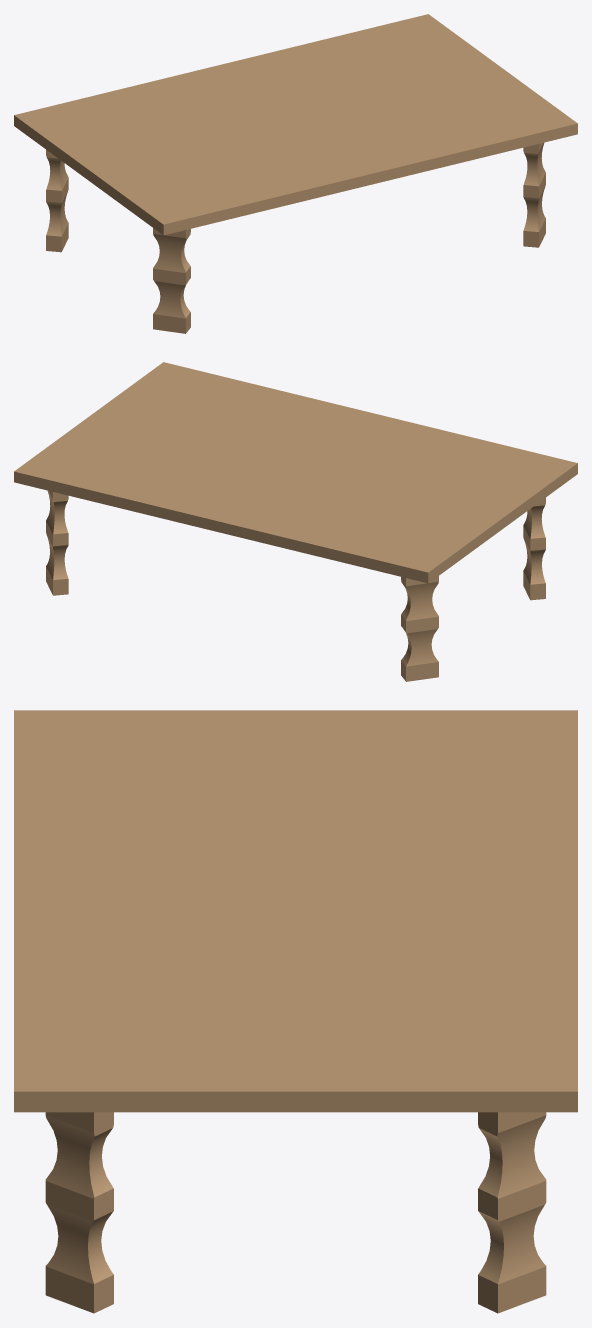
3 views of the same model, one above another, from view 1: azimuth 30°, elevation 25°; view 2: azimuth 150°, elevation 25°; view 3: azimuth 270°, elevation 25° (orthographic). The views are drawn at different scales.
Visible parts, largest first — view 1: Body1; view 2: Body1; view 3: Body1.
Boxes of the visible parts, box(x1,y1,x2,y2) form: Body1: box(14, 14, 577, 333); Body1: box(14, 362, 577, 681); Body1: box(14, 710, 577, 1313).
Size of the model in its own units: 1.2 by 0.34 by 0.75.
